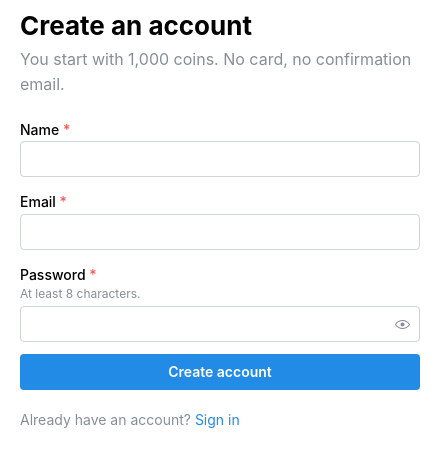
SignupPage › wants eight characters before it sends anything
This screenshot has width=441, height=465.
In the field labelled "Name *": (220, 160) [20,142,420,178], type "Ada"
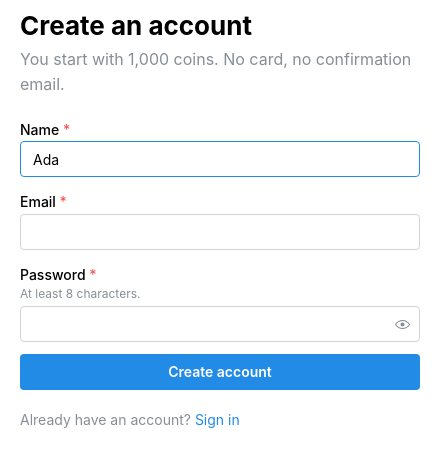
In the field labelled "Email *": (220, 232) [20,214,420,250], type "ada@example.com"
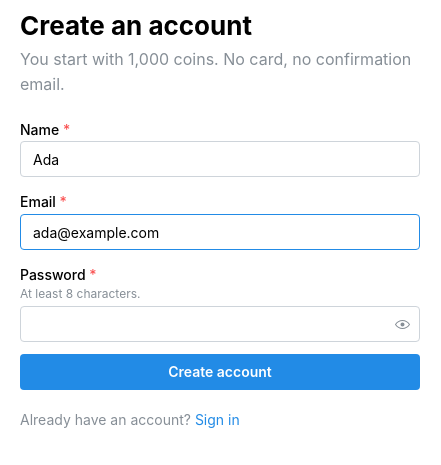
In the password field labelled "Password *": (220, 324) [21,308,419,342], type "short"
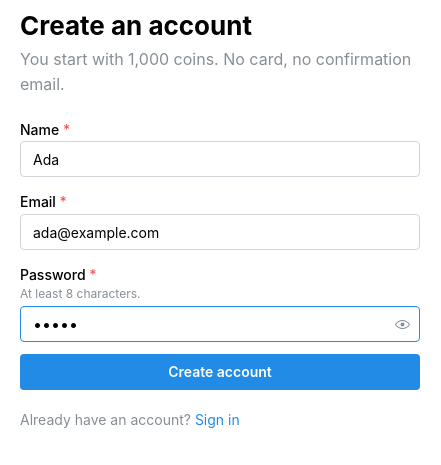
Click the button "Create account": click(220, 372) [20,354,420,390]
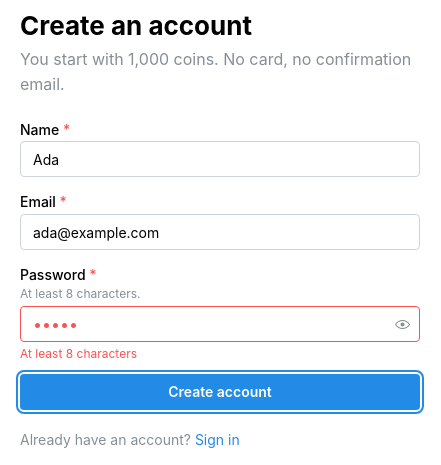
Check: the text "At least 8 characters" is shown, box [20,346,137,362]
